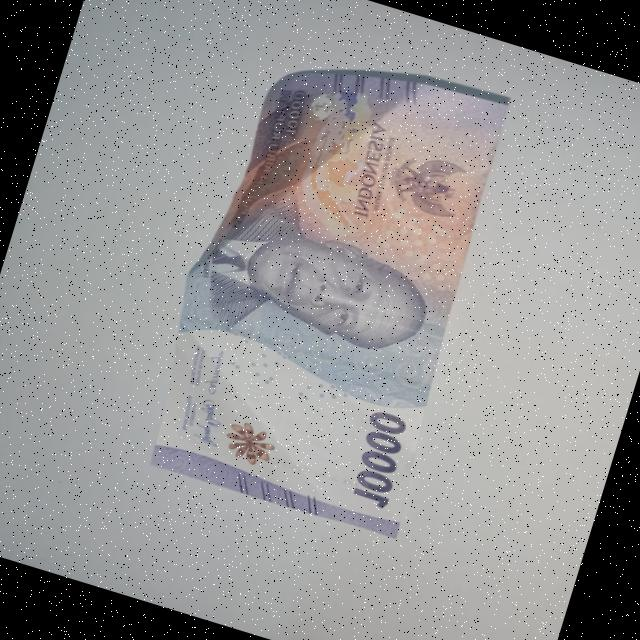10K: (125, 22, 534, 550)
